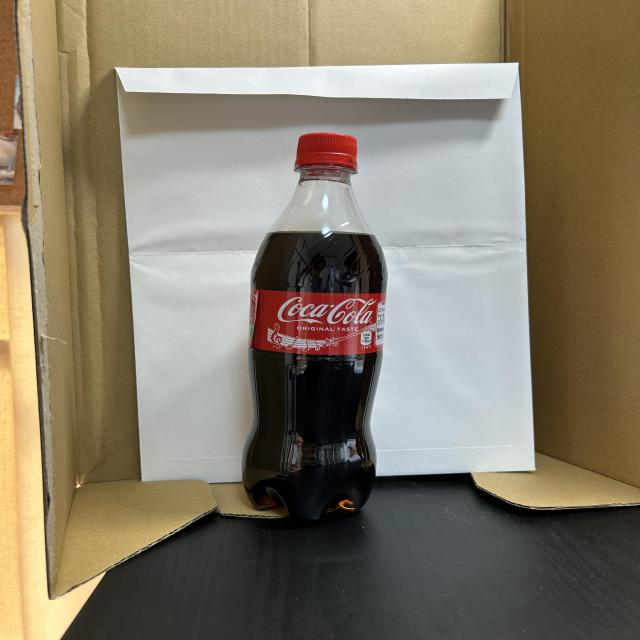high: (243, 132, 388, 519)
